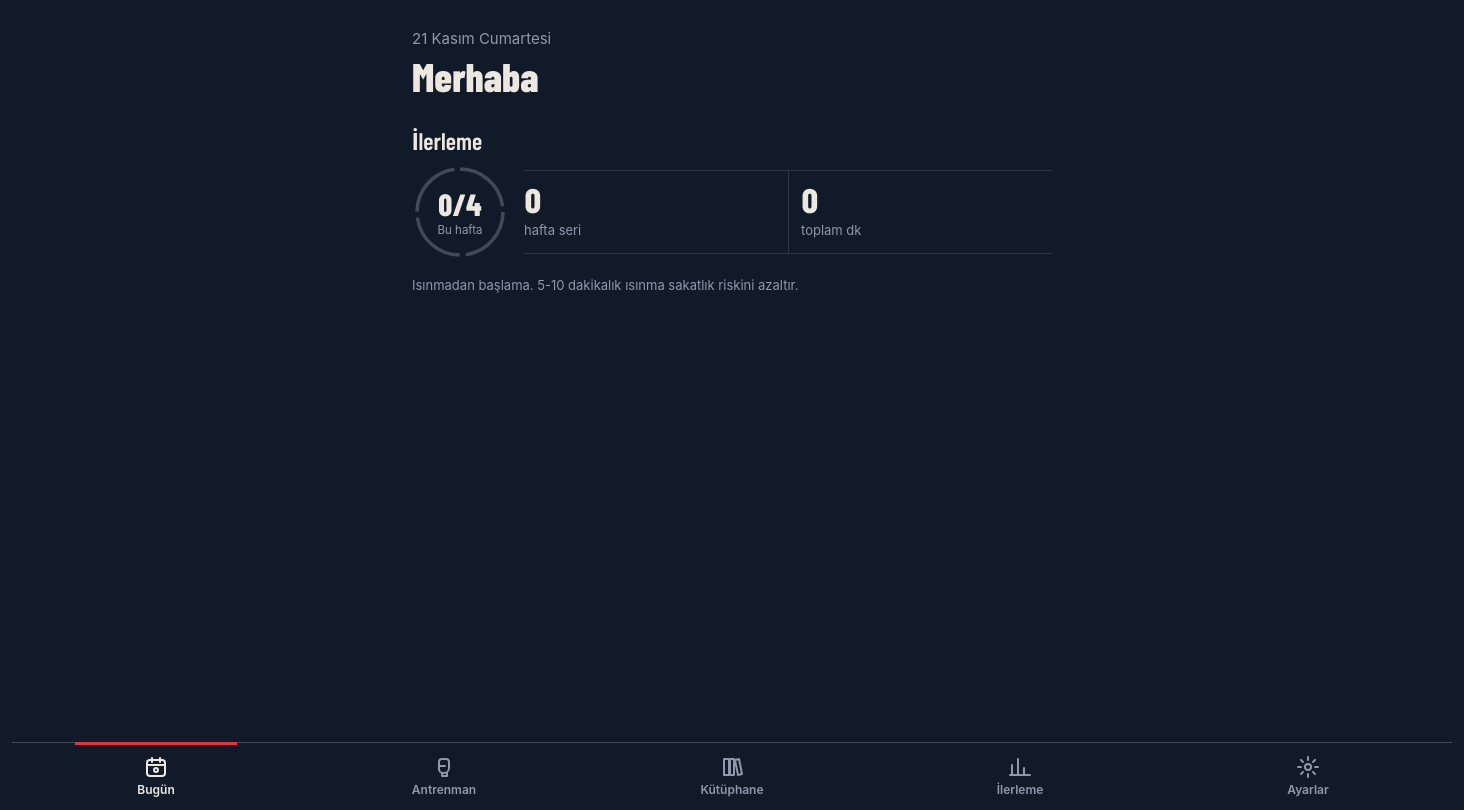
Test: Uygulama kabuğu › sekmeler arası geçiş
The image size is (1464, 810).
Click the button "Kütüphane". click: click(732, 776)
box: [588,743,876,809]
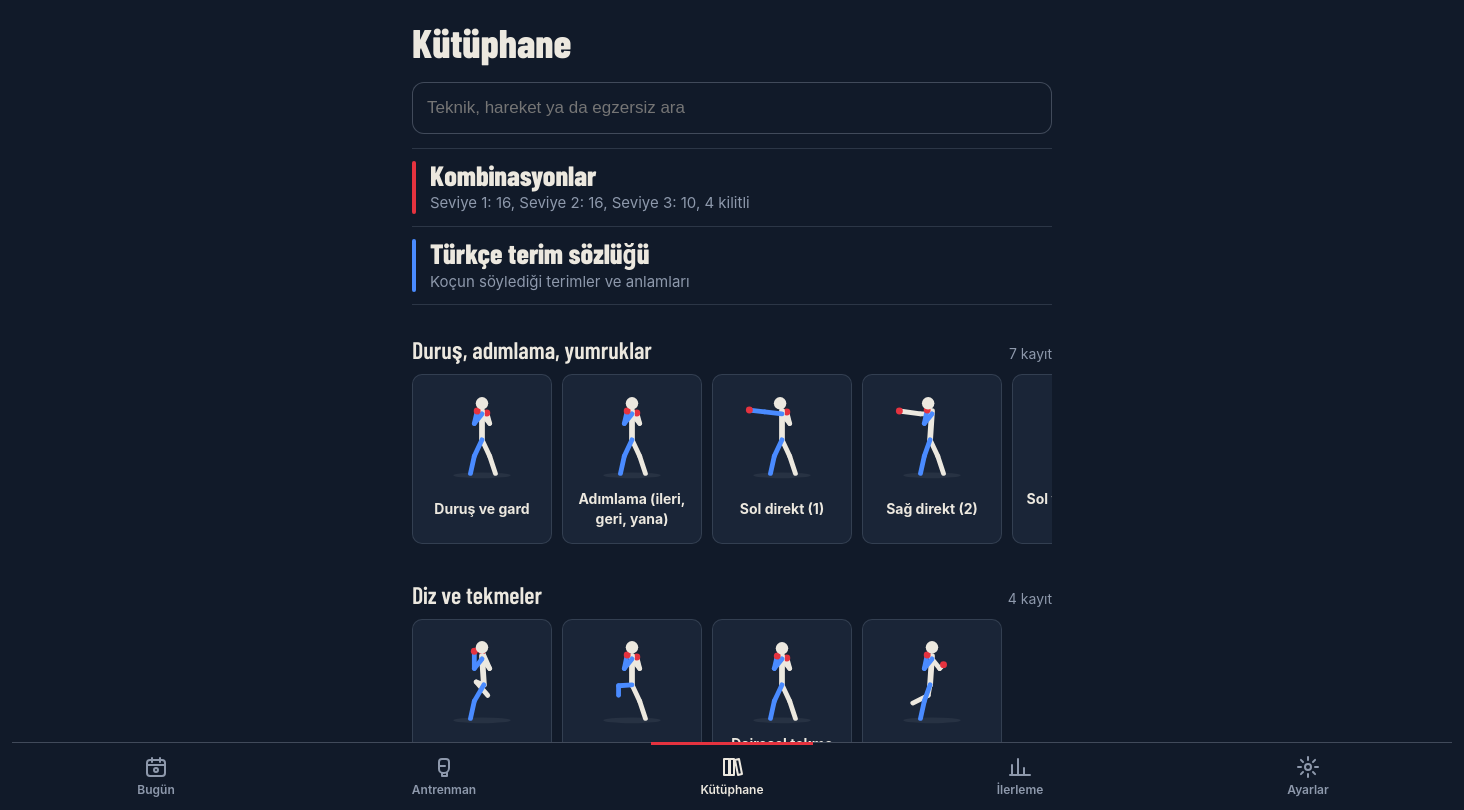
expect the heading "Kütüphane" is shown: met, box [412,18,571,66]
Click the button "Ayarlar". click: click(1308, 776)
box: [1164,743,1452,809]
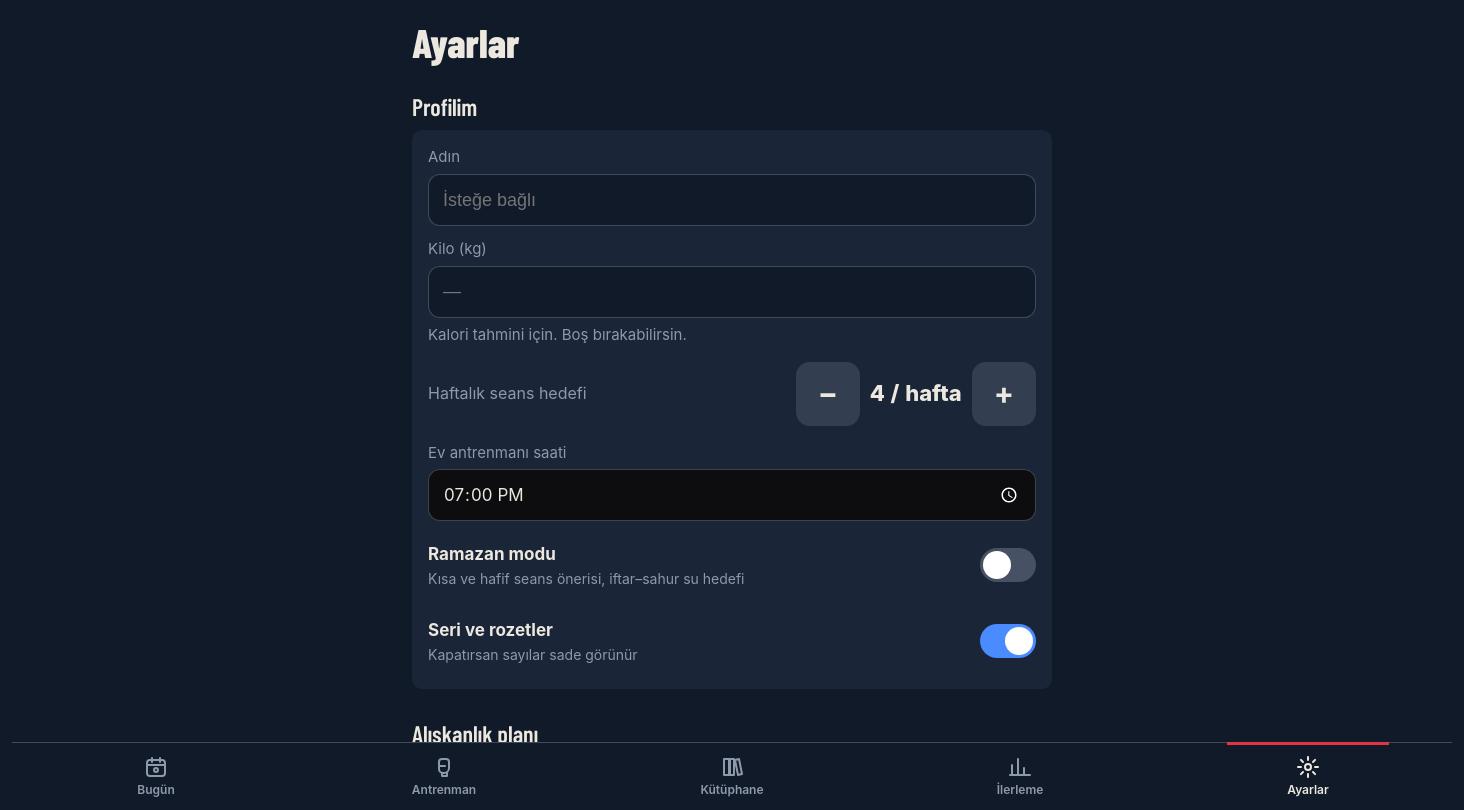
expect the heading "Ayarlar" is shown: met, box [412,18,520,66]
